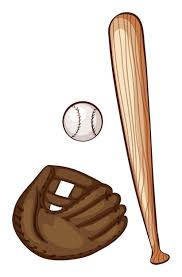baseball bat: (107, 11, 170, 265)
